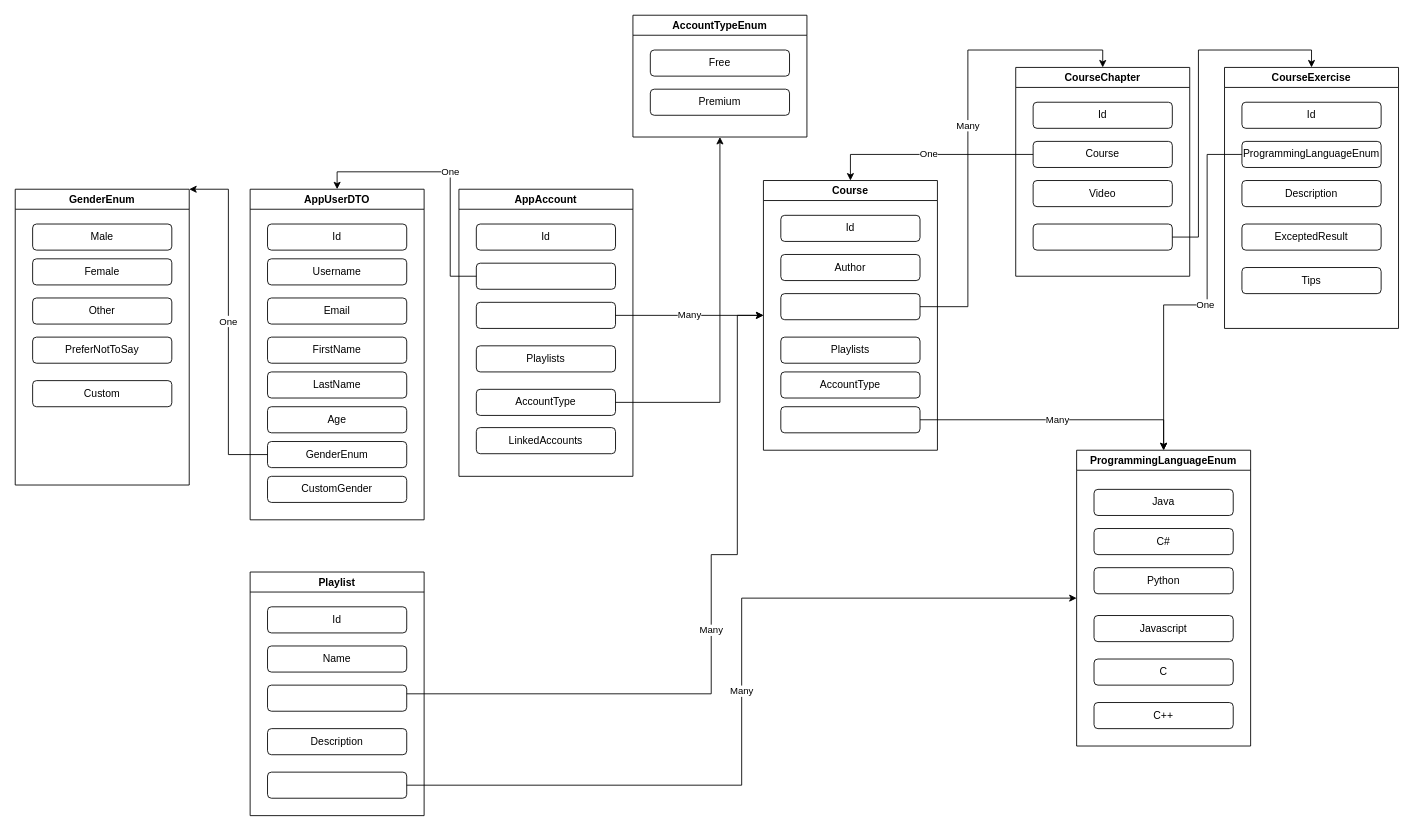
The diagram is 1414 pixels wide and 831 high, and some of its shapes have lost their labels. The shapes that lost their labels are listed below. From the top down, each one's centre as x and y in pixels, then its label:
point (1102, 236): CourseExecise
point (545, 275): Owner User
point (545, 314): CreatedCourses: List<Course>
point (850, 306): CourseChapters
point (850, 419): ProgrammingLanguageEnum List
point (337, 697): List<Courses>
point (337, 784): ProgrammingLanguages
